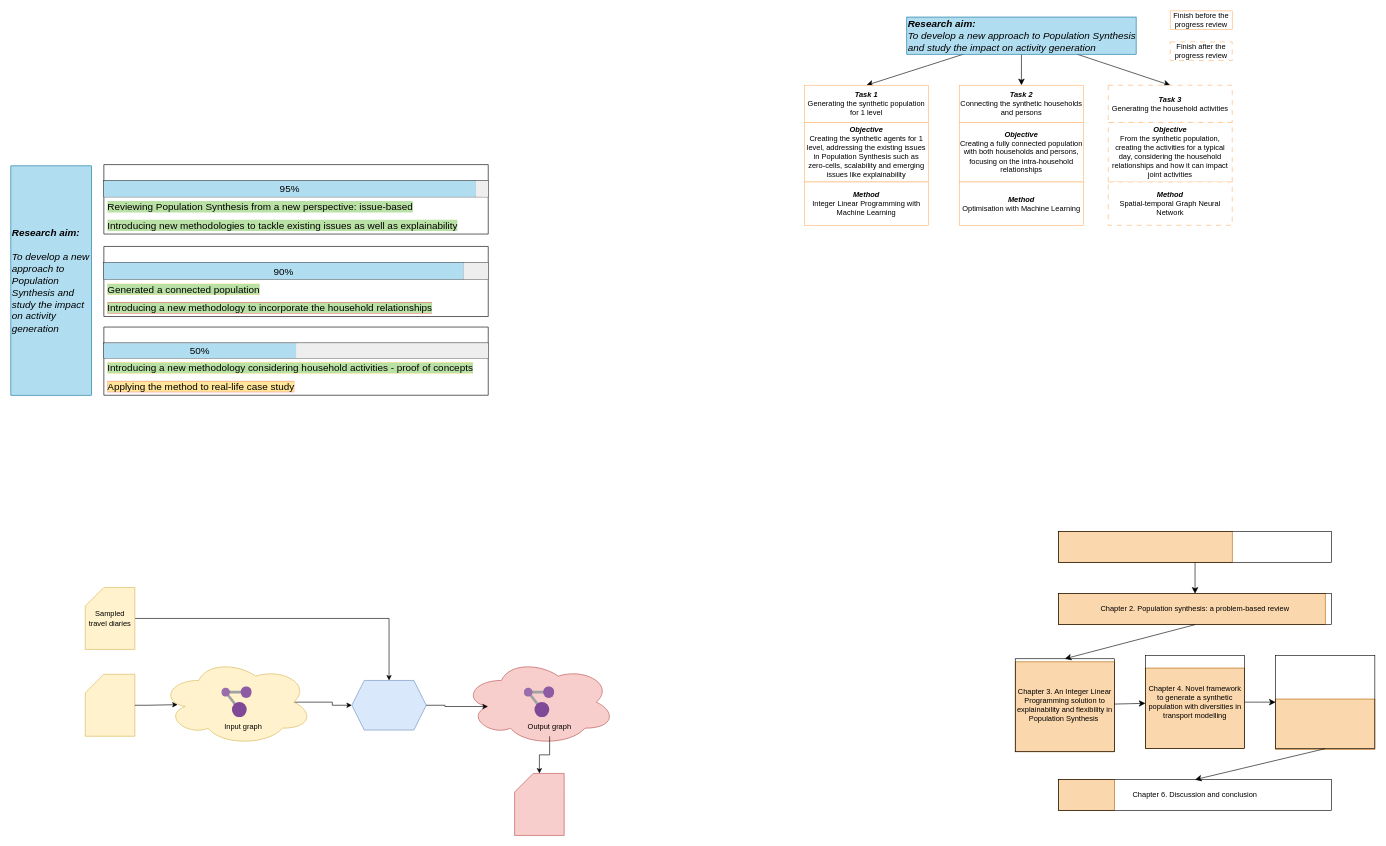
Image size: 1386x846. Some labels were removed from this diagram. The shapes that lost their labels are listed below. From the top down, each one's box as (x1, y1, x2, y2) in pixels, then its label:
(103, 164, 488, 234): Task 1: Generating the synthetic population for 1 level
(103, 246, 488, 317): Task 2: Connect the synthetic households and persons
(103, 326, 488, 395): Task 3: Generating the household activities
(1058, 531, 1331, 563): Chapter 1. Introduction
(85, 674, 135, 736): Synthetic population
(351, 680, 426, 730): Trained TGNN
(1275, 655, 1375, 749): Chapter 5. Applying TGNN to solver household activity prediction
(514, 773, 564, 835): Final synthetic travel diaries
